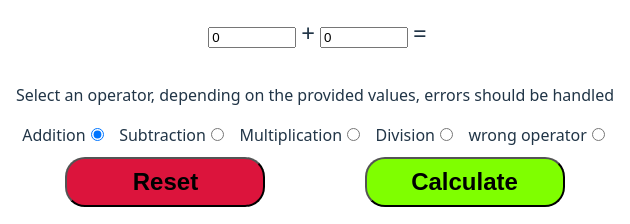
Test: CalculateForm Test › Substractions › UI should have a substraction symbol
Click the radio button with id "substraction".
click(217, 134)  # box [211,128,224,141]
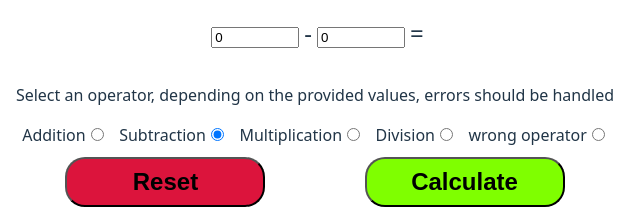
Check: the text with id "operatorSymbol" reads "-", box [304,16,312,49]
